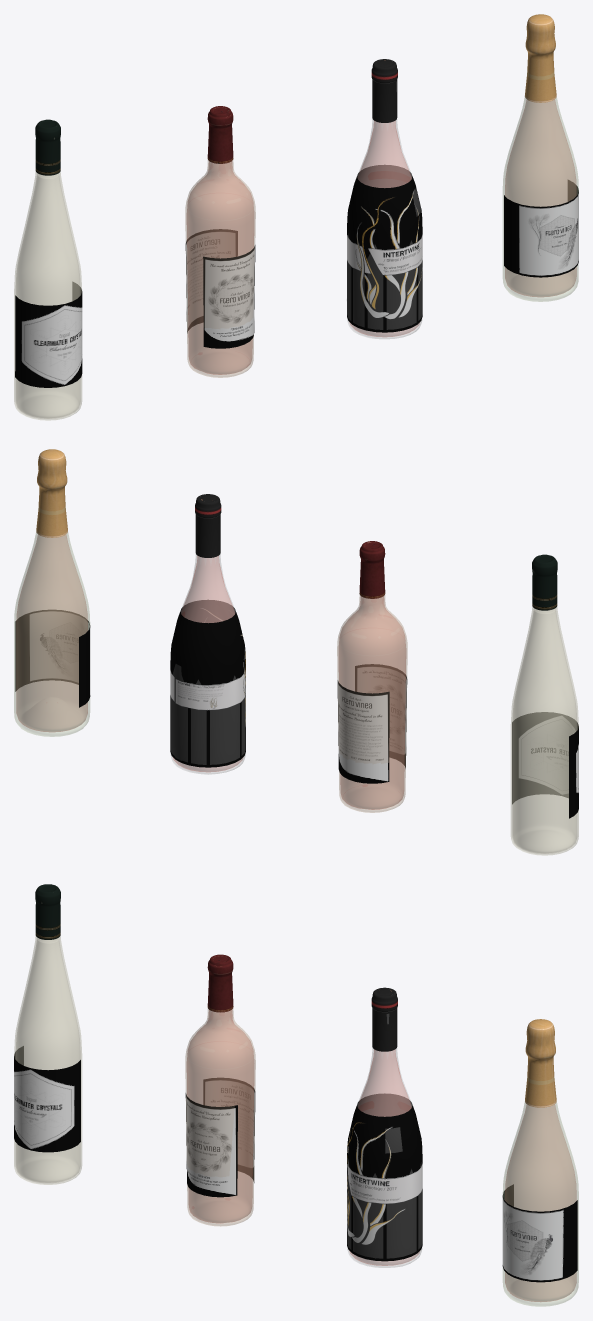
File: wine_bottles_01_lod1.glb
The picture shows the model from 3 angles, top to bottom: view 1: azimuth 30°, elevation 25°; view 2: azimuth 150°, elevation 25°; view 3: azimuth 330°, elevation 25°; orthographic projection.
Parts seen in each view (by area): view 1: wine_bottles_01_champagne, wine_bottles_01_alsace, wine_bottles_01_burgundy, wine_bottles_01_bordeaux; view 2: wine_bottles_01_champagne, wine_bottles_01_alsace, wine_bottles_01_burgundy, wine_bottles_01_bordeaux; view 3: wine_bottles_01_champagne, wine_bottles_01_alsace, wine_bottles_01_burgundy, wine_bottles_01_bordeaux.
Part boxes in pixels (box(x1,y1,x2,y2)): wine_bottles_01_champagne: box(503, 14, 578, 301); wine_bottles_01_alsace: box(14, 119, 82, 420); wine_bottles_01_burgundy: box(347, 59, 422, 338); wine_bottles_01_bordeaux: box(185, 106, 255, 377); wine_bottles_01_champagne: box(14, 449, 90, 736); wine_bottles_01_alsace: box(511, 554, 578, 855); wine_bottles_01_burgundy: box(170, 494, 245, 774); wine_bottles_01_bordeaux: box(337, 541, 407, 812); wine_bottles_01_champagne: box(502, 1019, 578, 1306); wine_bottles_01_alsace: box(14, 884, 81, 1184); wine_bottles_01_burgundy: box(347, 987, 422, 1267); wine_bottles_01_bordeaux: box(185, 954, 255, 1226).
Bounding box in the file's own units: 0.6763 × 0.3314 × 0.0805.
12 materials, 9 textured.
